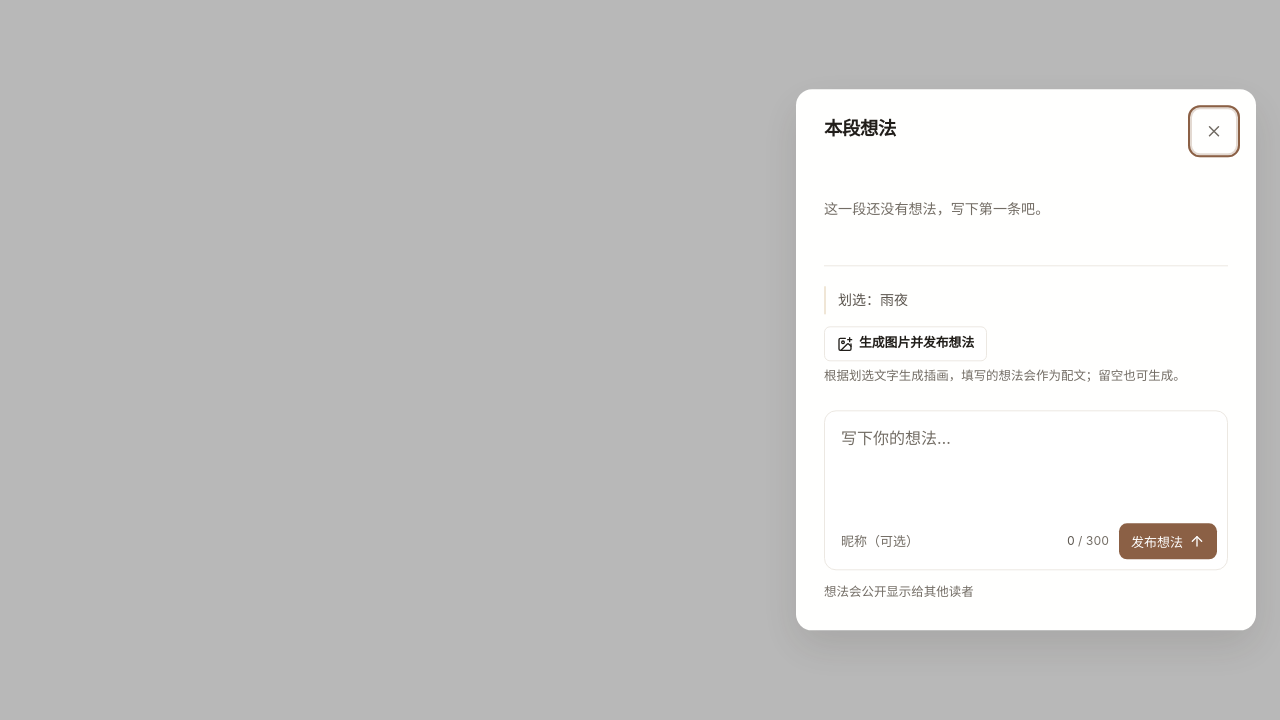
任务提交失败保留配文，以便重试
The width and height of the screenshot is (1280, 720).
Step 1. Type "想象中的雨夜" into the text box named "想法内容" → (1026, 463), box [825, 411, 1227, 515]
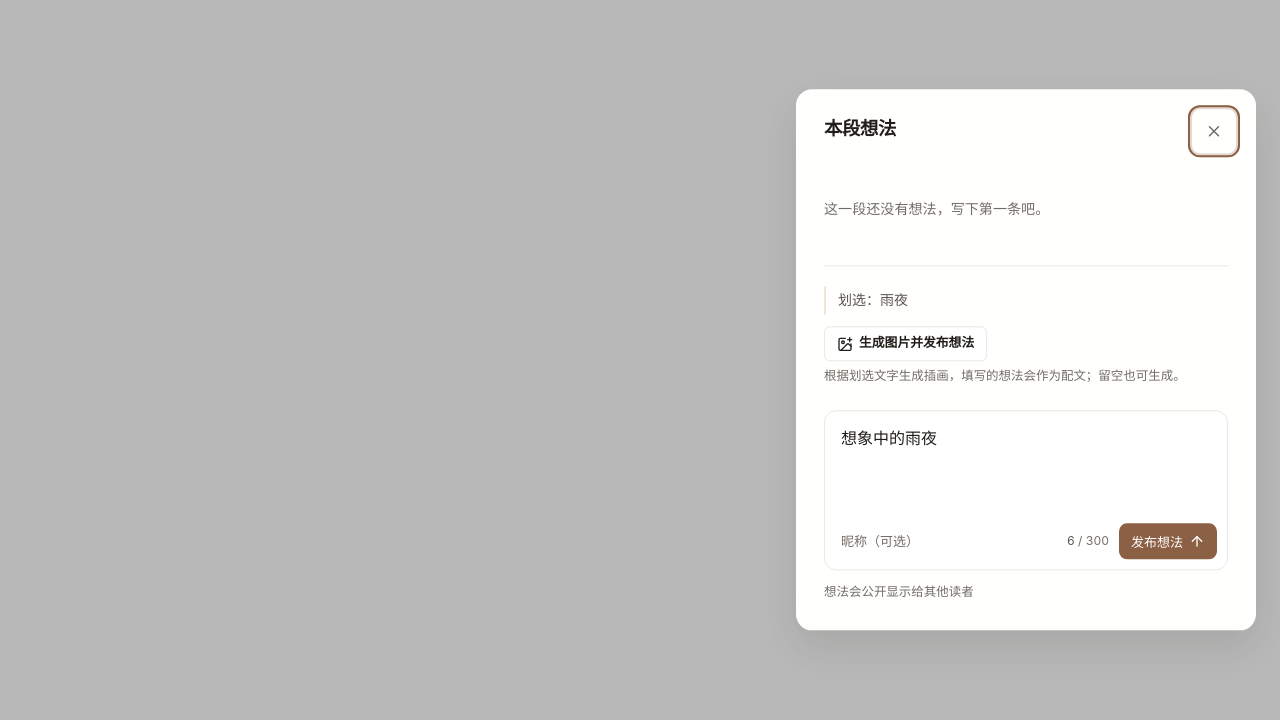
Step 2. Click the button "生成图片并发布想法" → (906, 344), box [824, 327, 987, 361]
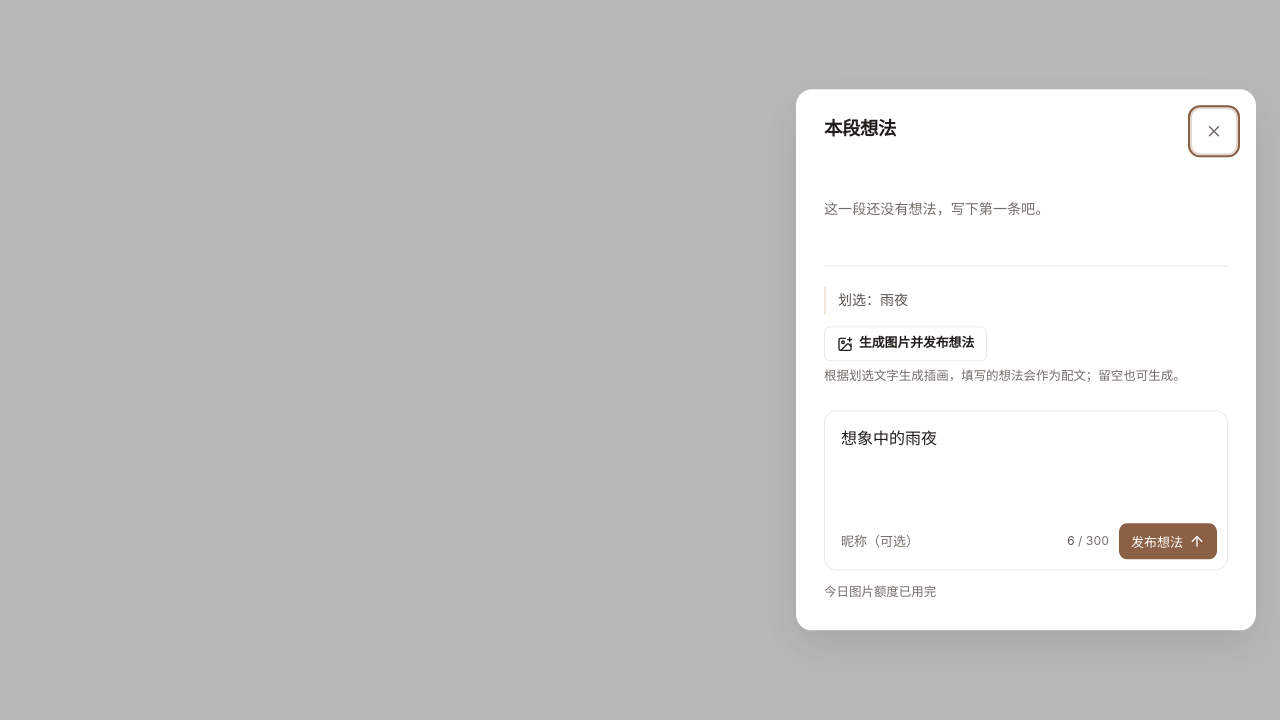
Check: the text "今日图片额度已用完" is shown, box [824, 583, 936, 603]
